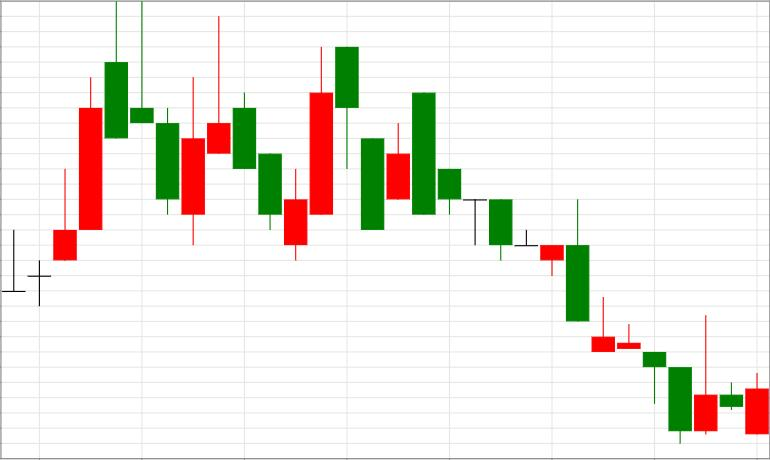inverse_hammer_rise: (438, 168, 717, 444)
